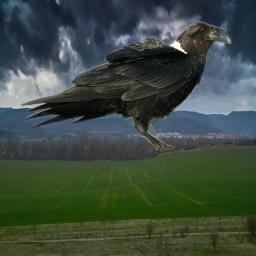Crow: (18, 20, 234, 154)
